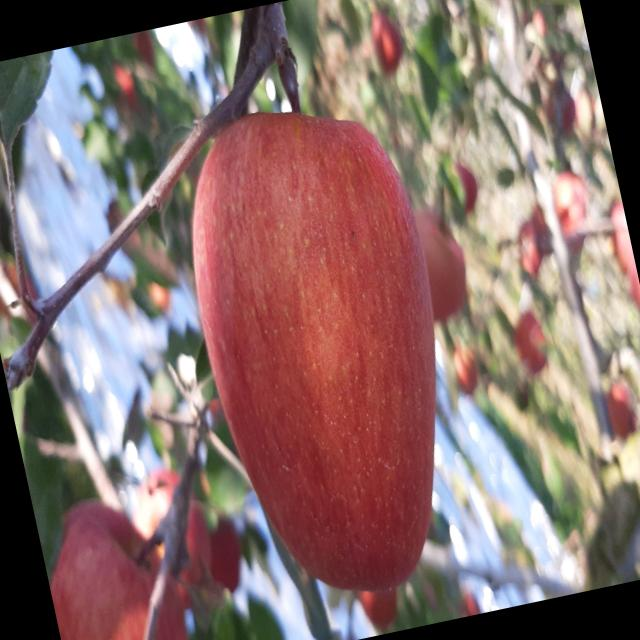fresh: (154, 76, 498, 625)
